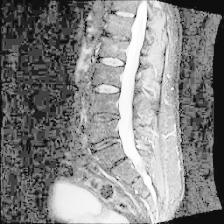disc: (94, 51, 132, 71), (89, 79, 124, 99), (101, 28, 137, 46), (87, 136, 128, 151), (102, 154, 132, 172), (109, 9, 138, 22)
hdisc: (82, 109, 127, 122)
